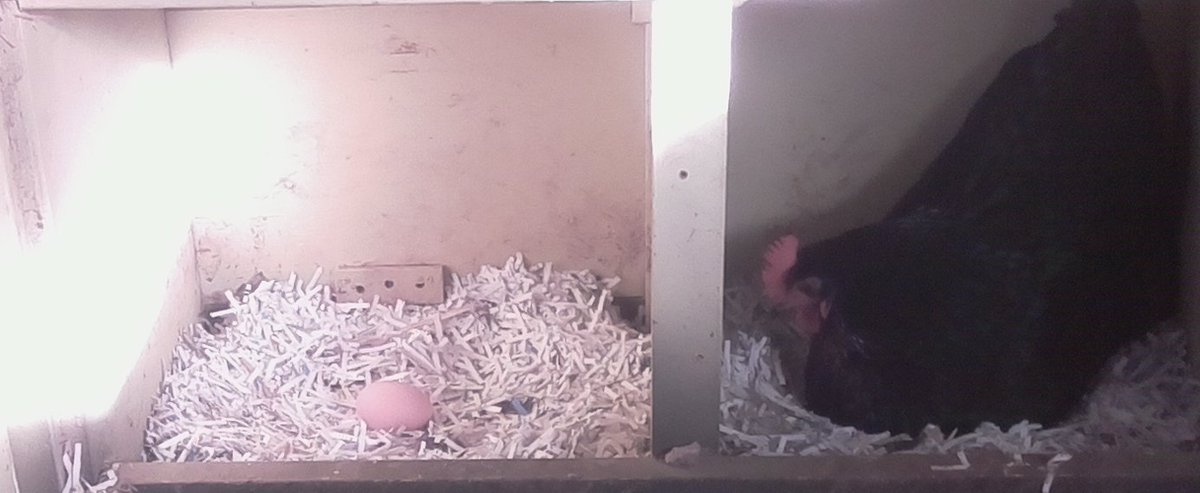egg: (355, 374, 435, 439)
hen: (759, 7, 1159, 435)
